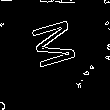M_E: (31, 13, 86, 71)
